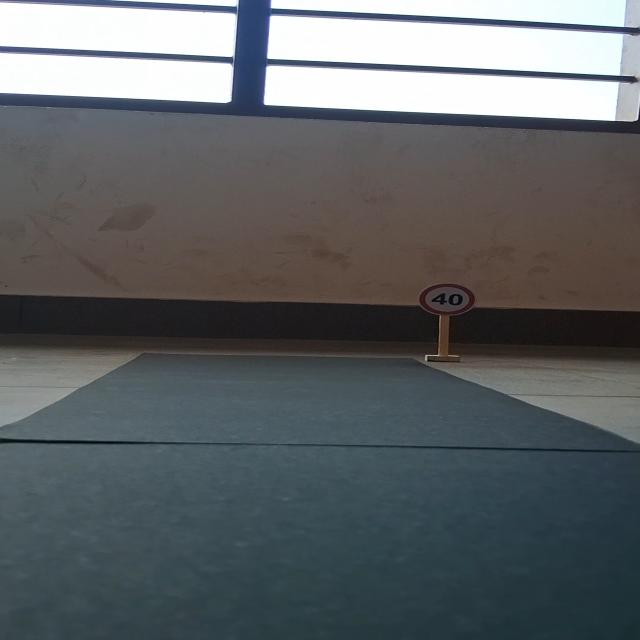Speed40: (412, 279, 478, 319)
